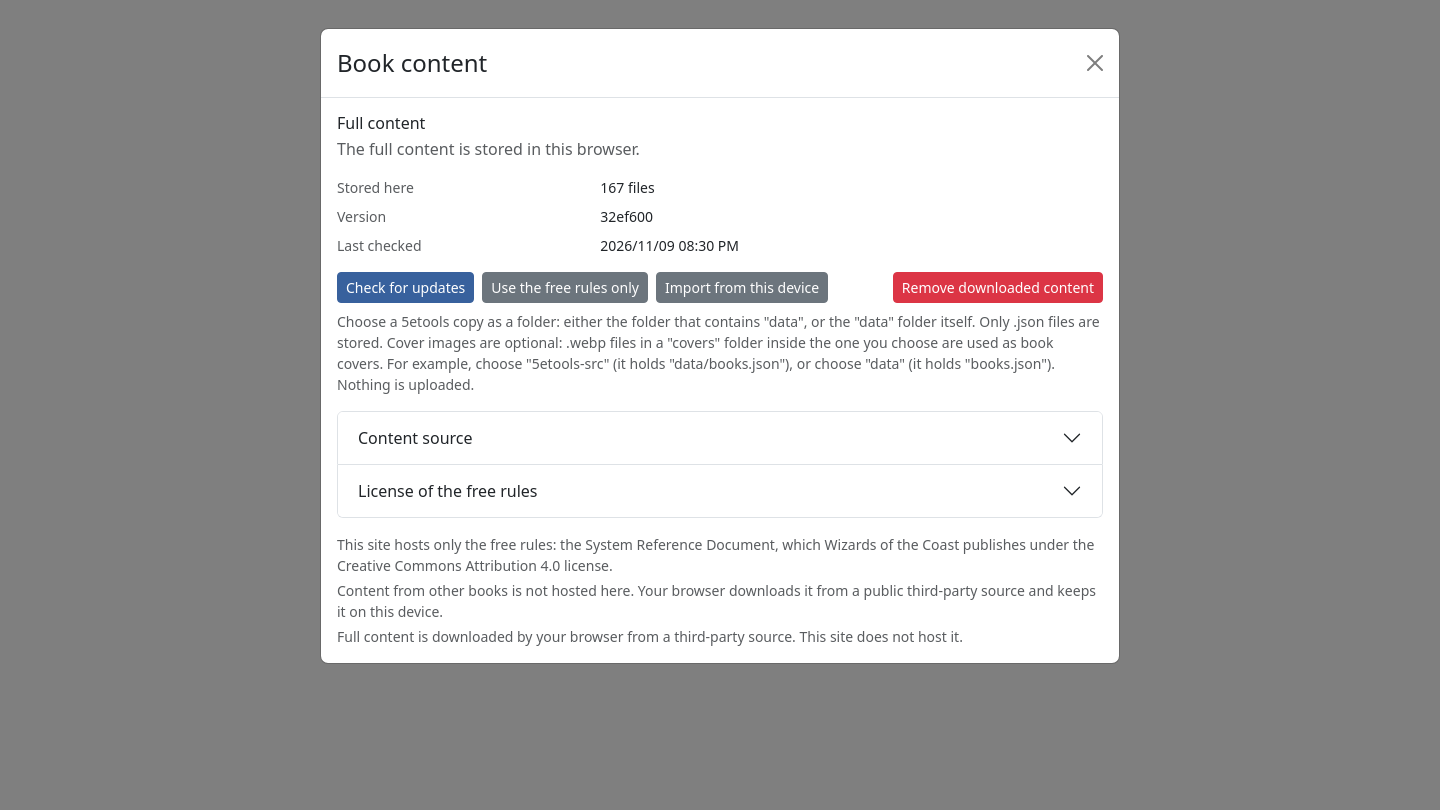
ContentSettings with the full content in use › checks for updates and says how it went
Click the button "Check for updates": (406, 288) [337,272,474,303]
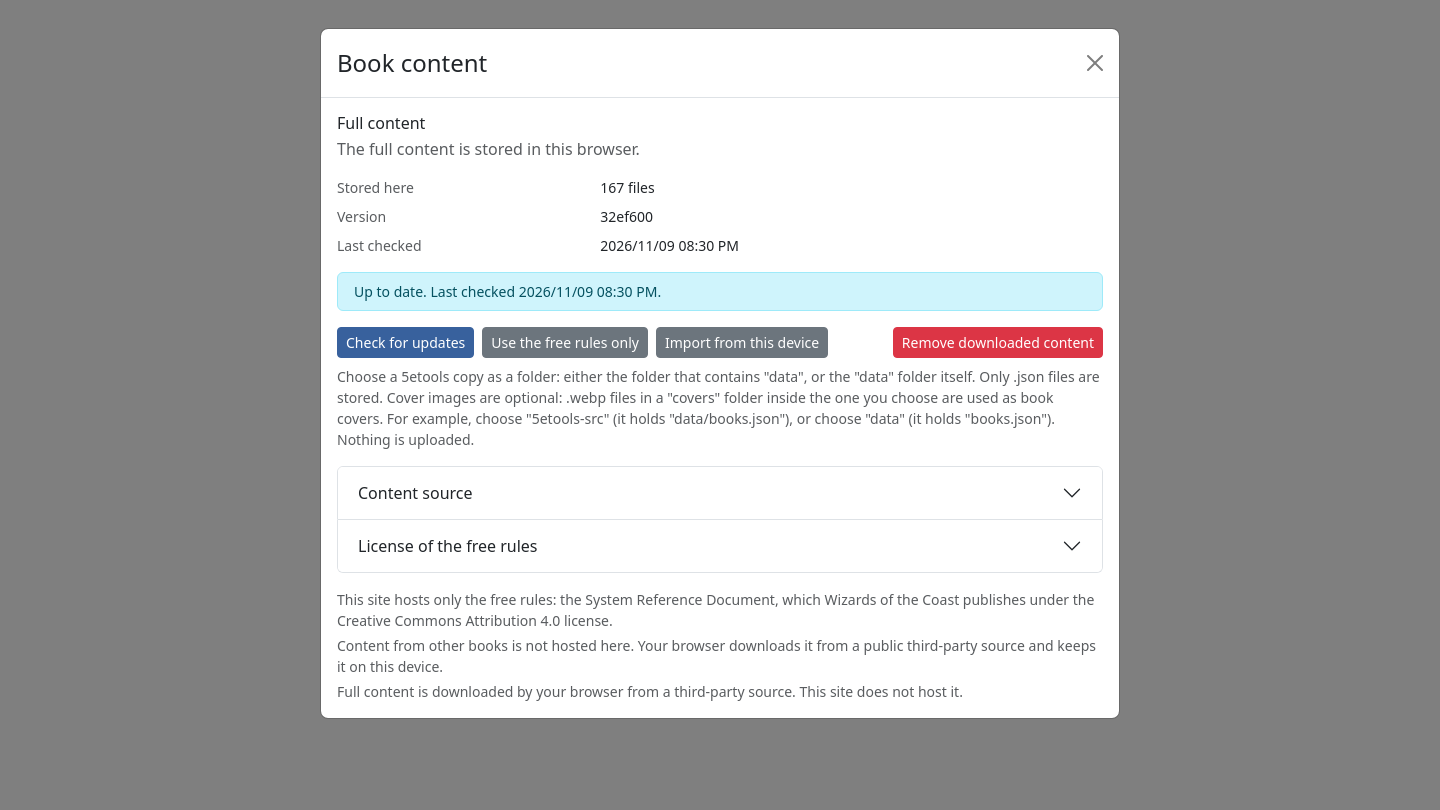
expect the message shows "Up to date. Last checked": met, box [354,282,519,301]
Click the button "Check for updates": (406, 343) [337,327,474,358]
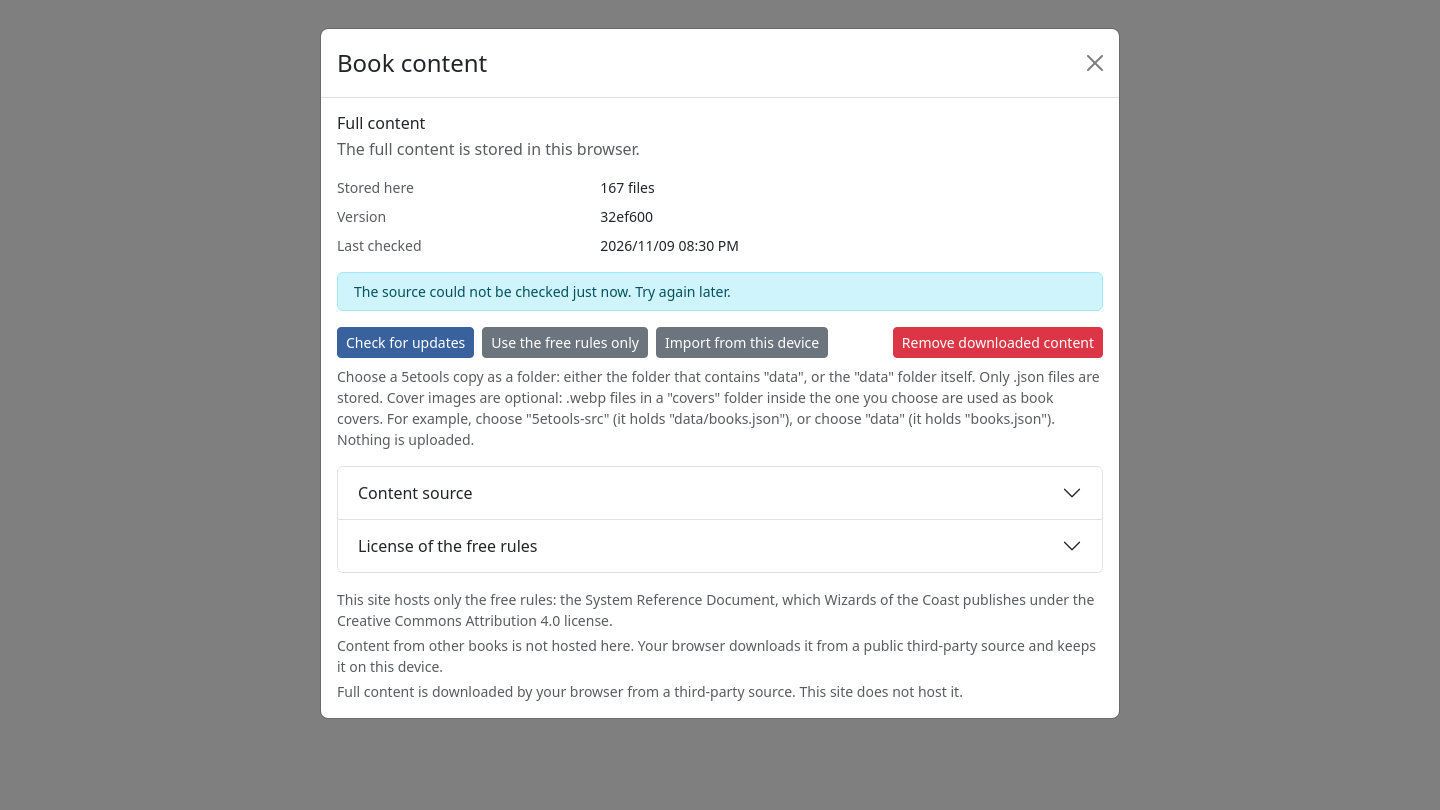
expect the message shows "could not be checked": met, box [354,282,731,301]
Click the button "Check for updates": (406, 343) [337,327,474,358]
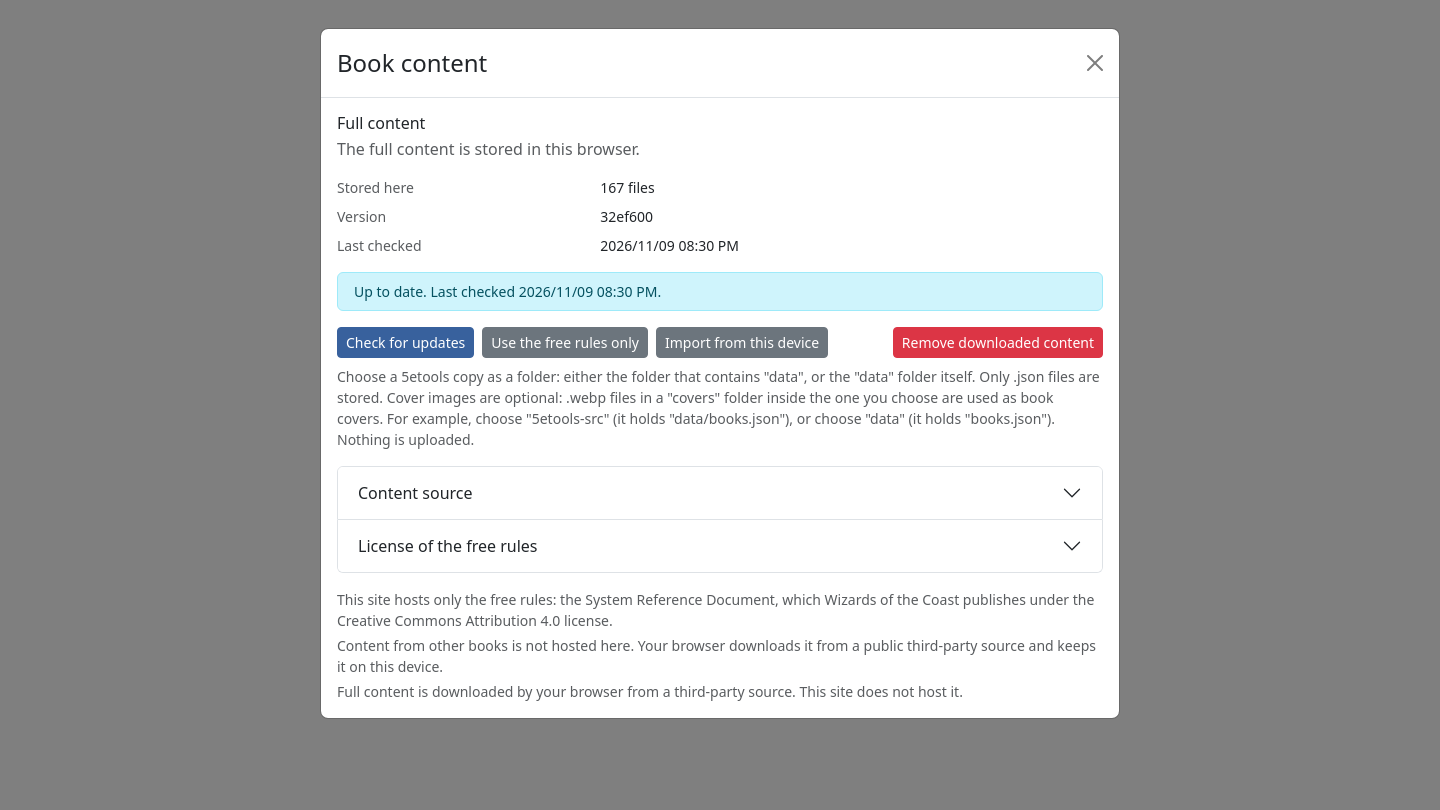
expect the message shows "Up to date. Last checked": met, box [354,282,519,301]
Click the button "Check for updates": (406, 343) [337,327,474,358]
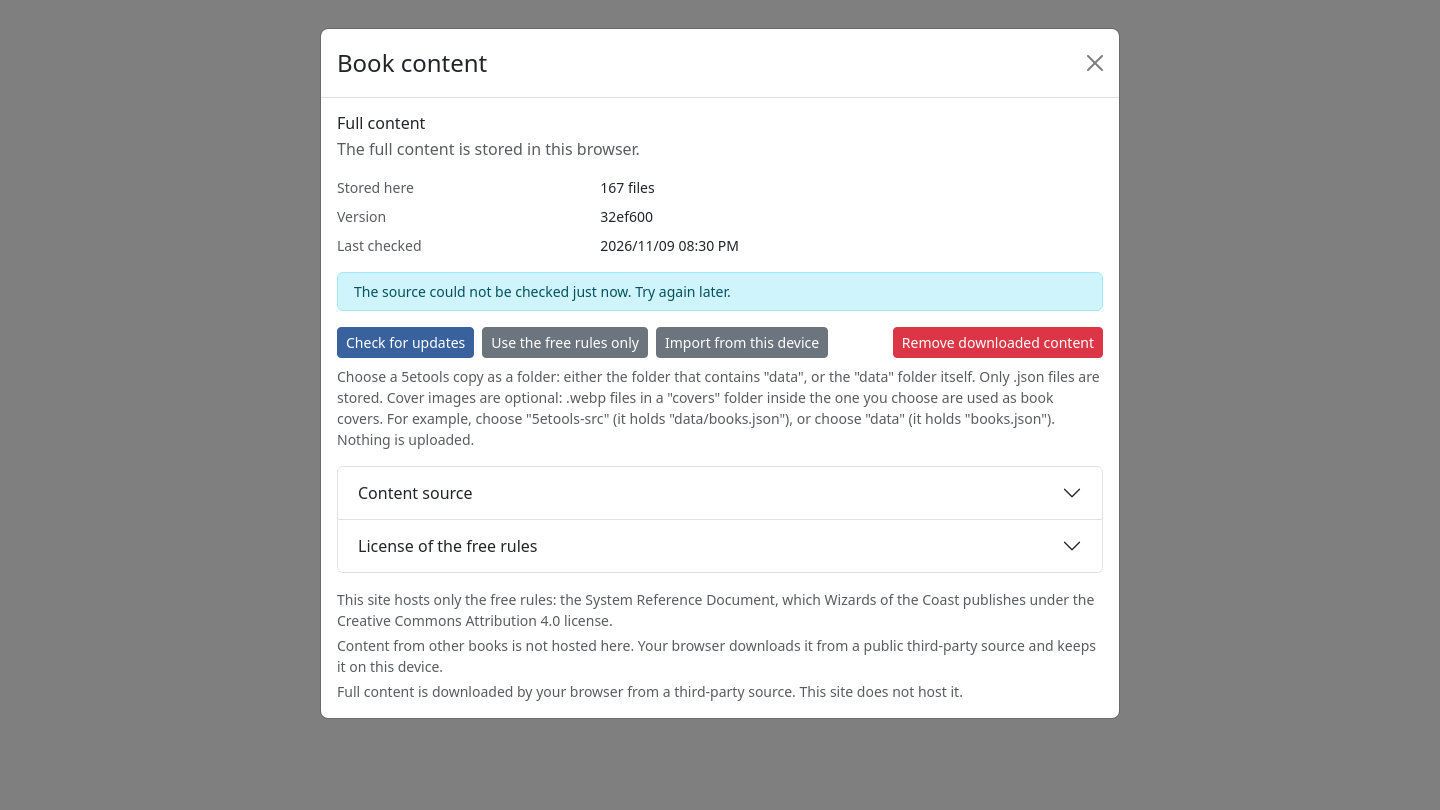
expect the message shows "could not be checked": met, box [354,282,731,301]
